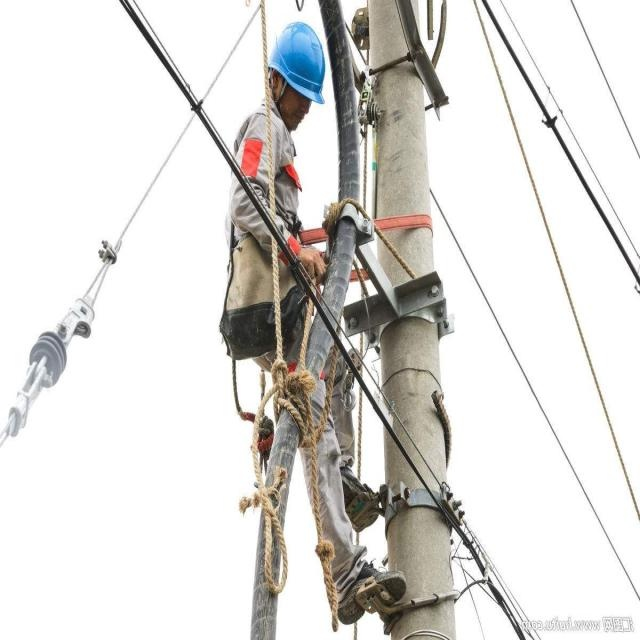Con_Casco: (265, 23, 325, 125)
